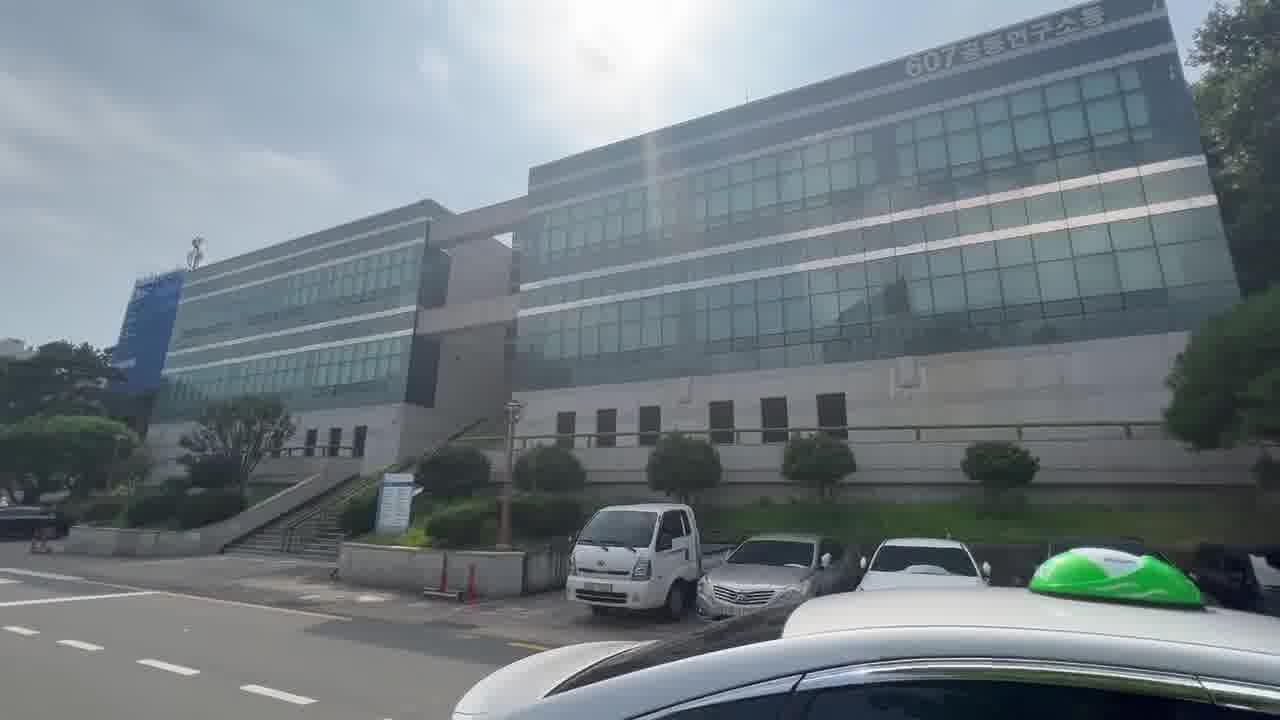building: (213, 29, 1147, 478)
